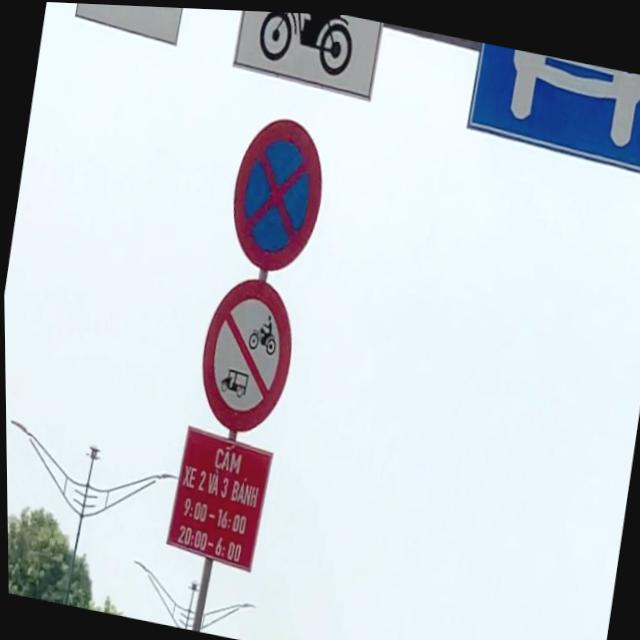Cam dung xe va do xe: (221, 106, 334, 279)
